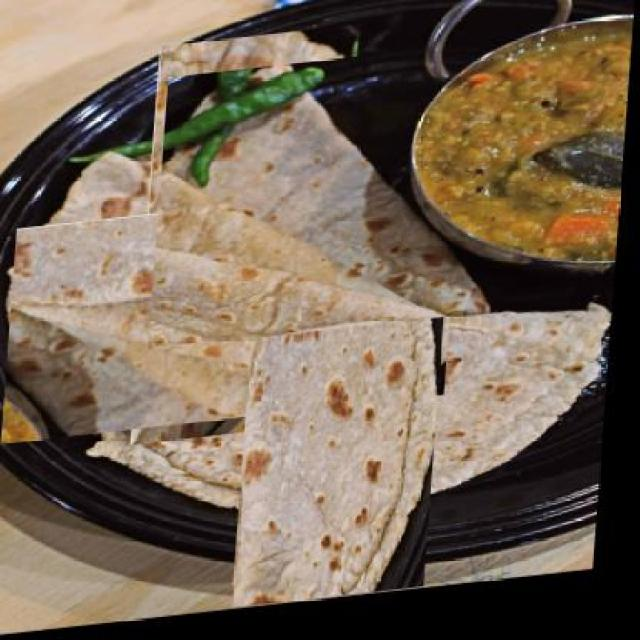chapati: (156, 233, 541, 622), (6, 190, 465, 447), (154, 52, 511, 356), (92, 79, 410, 406)
